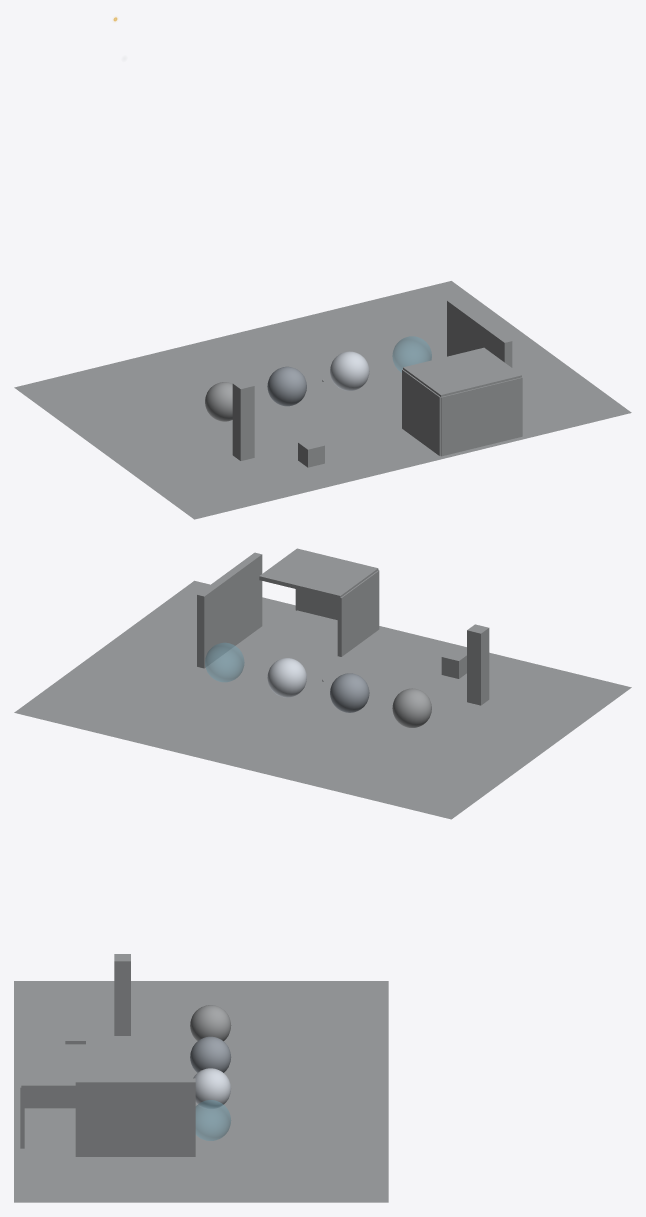
The model's file is p63_2a_celestial_test_stage.glb.
3 views of the same model, one above another, from view 1: azimuth 30°, elevation 25°; view 2: azimuth 150°, elevation 25°; view 3: azimuth 270°, elevation 25° (orthographic). The views are drawn at different scales.
Visible parts, largest first — view 1: P63_STAGE_GROUND, P63_ROOF_BACK, P63_ROOF, P63_VERTICAL_WALL, P63_ROOF_LEFT, P63_SHADOW_PILLAR, P63_ROUGH_METAL, P63_POLISHED_METAL, P63_GLASS, P63_MATTE_SPHERE; view 2: P63_STAGE_GROUND, P63_VERTICAL_WALL, P63_ROOF, P63_ROOF_LEFT, P63_INTERIOR_FLOOR, P63_SHADOW_PILLAR, P63_MATTE_SPHERE, P63_POLISHED_METAL, P63_ROUGH_METAL, P63_GLASS, P63_ROOF_BACK, P63_NORMAL_SCALE_REFERENCE; view 3: P63_STAGE_GROUND, P63_VERTICAL_WALL, P63_ROOF, P63_INTERIOR_FLOOR, P63_SHADOW_PILLAR, P63_POLISHED_METAL, P63_GLASS, P63_ROUGH_METAL, P63_MATTE_SPHERE, P63_ROOF_LEFT.
Boxes of the visible parts, left/top/right/bottom form: P63_STAGE_GROUND: left=14, top=281, right=631, bottom=519; P63_ROOF_BACK: left=441, top=377, right=522, bottom=456; P63_ROOF: left=403, top=347, right=521, bottom=396; P63_VERTICAL_WALL: left=447, top=299, right=512, bottom=367; P63_ROOF_LEFT: left=402, top=369, right=440, bottom=455; P63_SHADOW_PILLAR: left=232, top=380, right=254, bottom=460; P63_ROUGH_METAL: left=267, top=366, right=306, bottom=406; P63_POLISHED_METAL: left=330, top=351, right=369, bottom=390; P63_GLASS: left=392, top=336, right=431, bottom=372; P63_MATTE_SPHERE: left=205, top=382, right=232, bottom=421; P63_STAGE_GROUND: left=14, top=580, right=631, bottom=819; P63_VERTICAL_WALL: left=197, top=552, right=262, bottom=668; P63_ROOF: left=259, top=548, right=378, bottom=599; P63_ROOF_LEFT: left=337, top=570, right=379, bottom=656; P63_INTERIOR_FLOOR: left=262, top=610, right=337, bottom=654; P63_SHADOW_PILLAR: left=467, top=624, right=489, bottom=705; P63_MATTE_SPHERE: left=392, top=688, right=431, bottom=727; P63_POLISHED_METAL: left=267, top=658, right=306, bottom=697; P63_ROUGH_METAL: left=330, top=673, right=369, bottom=712; P63_GLASS: left=205, top=642, right=244, bottom=682; P63_ROOF_BACK: left=295, top=569, right=378, bottom=619; P63_NORMAL_SCALE_REFERENCE: left=441, top=650, right=466, bottom=678; P63_STAGE_GROUND: left=14, top=981, right=388, bottom=1202; P63_VERTICAL_WALL: left=75, top=1078, right=195, bottom=1156; P63_ROOF: left=21, top=1044, right=99, bottom=1089; P63_INTERIOR_FLOOR: left=24, top=1108, right=75, bottom=1147; P63_SHADOW_PILLAR: left=114, top=954, right=130, bottom=1035; P63_POLISHED_METAL: left=193, top=1068, right=231, bottom=1109; P63_GLASS: left=195, top=1100, right=231, bottom=1140; P63_ROUGH_METAL: left=190, top=1036, right=231, bottom=1072; P63_MATTE_SPHERE: left=190, top=1005, right=231, bottom=1041; P63_ROOF_LEFT: left=24, top=1089, right=75, bottom=1108.
Bounding box in the file's own units: 28 × 14.65 × 33.
Materials: 40 (36 with a texture image).
